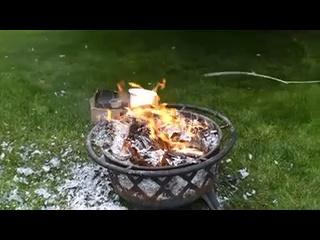Fire: (114, 82, 195, 150)
